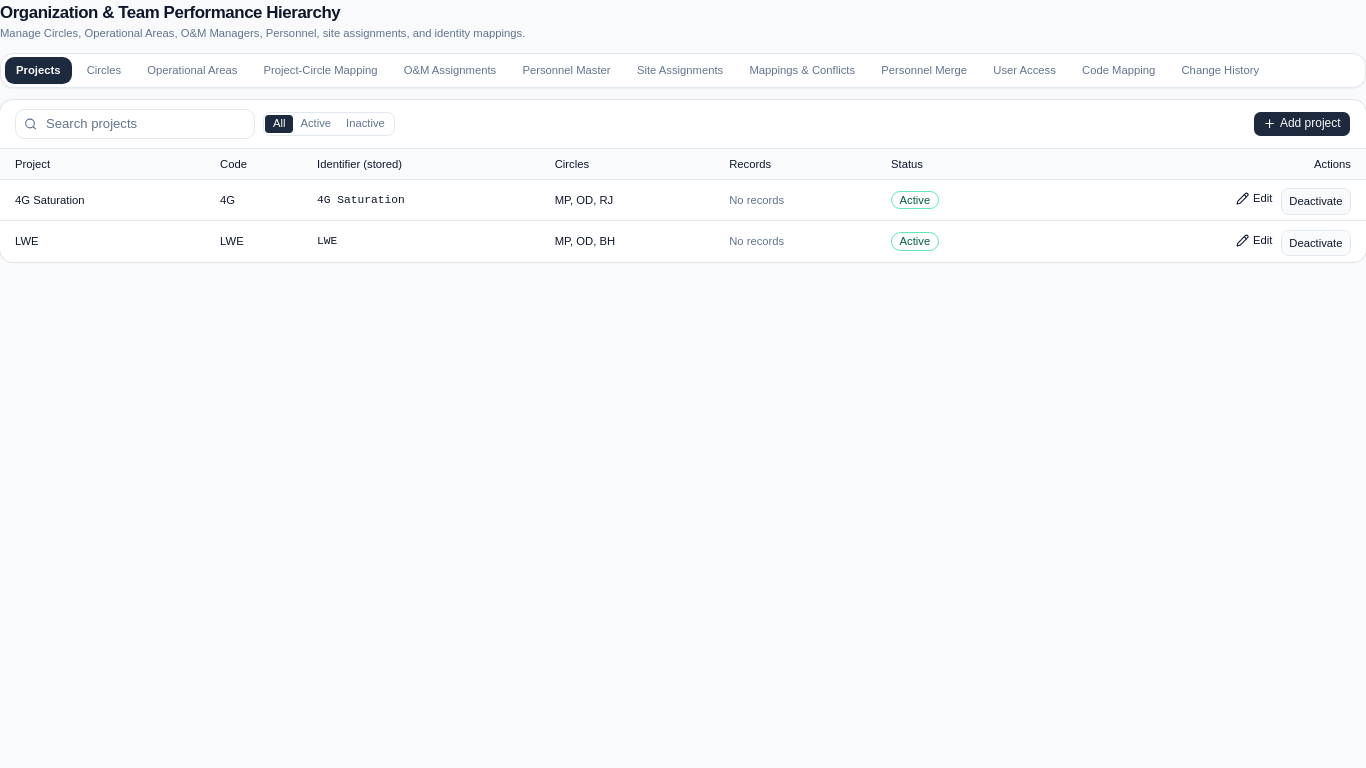
it: Organization page › deactivates a project only after confirmation, with the reason for the history
expect the text "MP, OD, BH" is shown: met, box [547,221,722,262]
Click the button with aria-label "Deactivate LWE".
click(1316, 243)  # box [1281,230,1351,256]
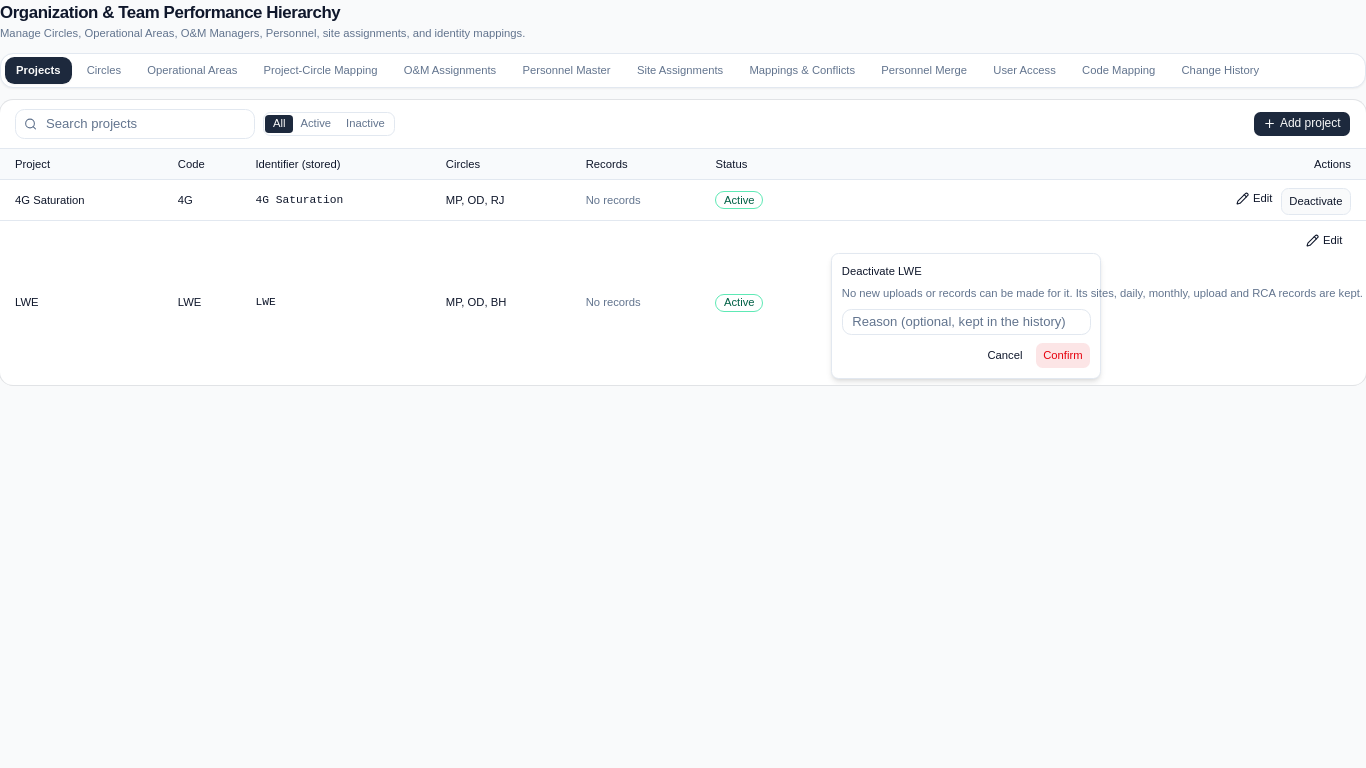
expect the dialog "Deactivate LWE" shows "records are kept": met, box [842,287,1363,299]
Type "Project closed" into the field named "Reason (optional)".
click(966, 322); type("Project closed")  # box [842,309,1091,335]
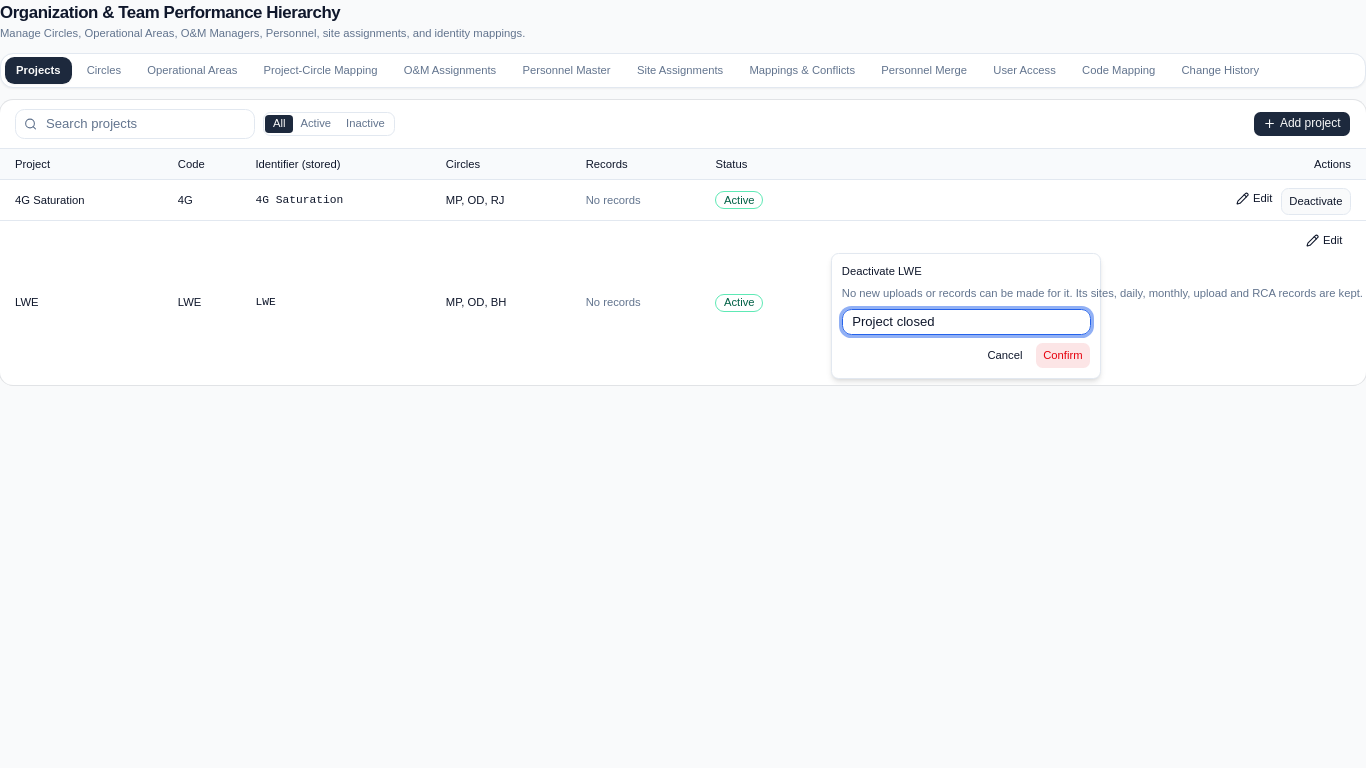
Click the button "Confirm".
click(1063, 355)  # box [1035,342,1091,369]
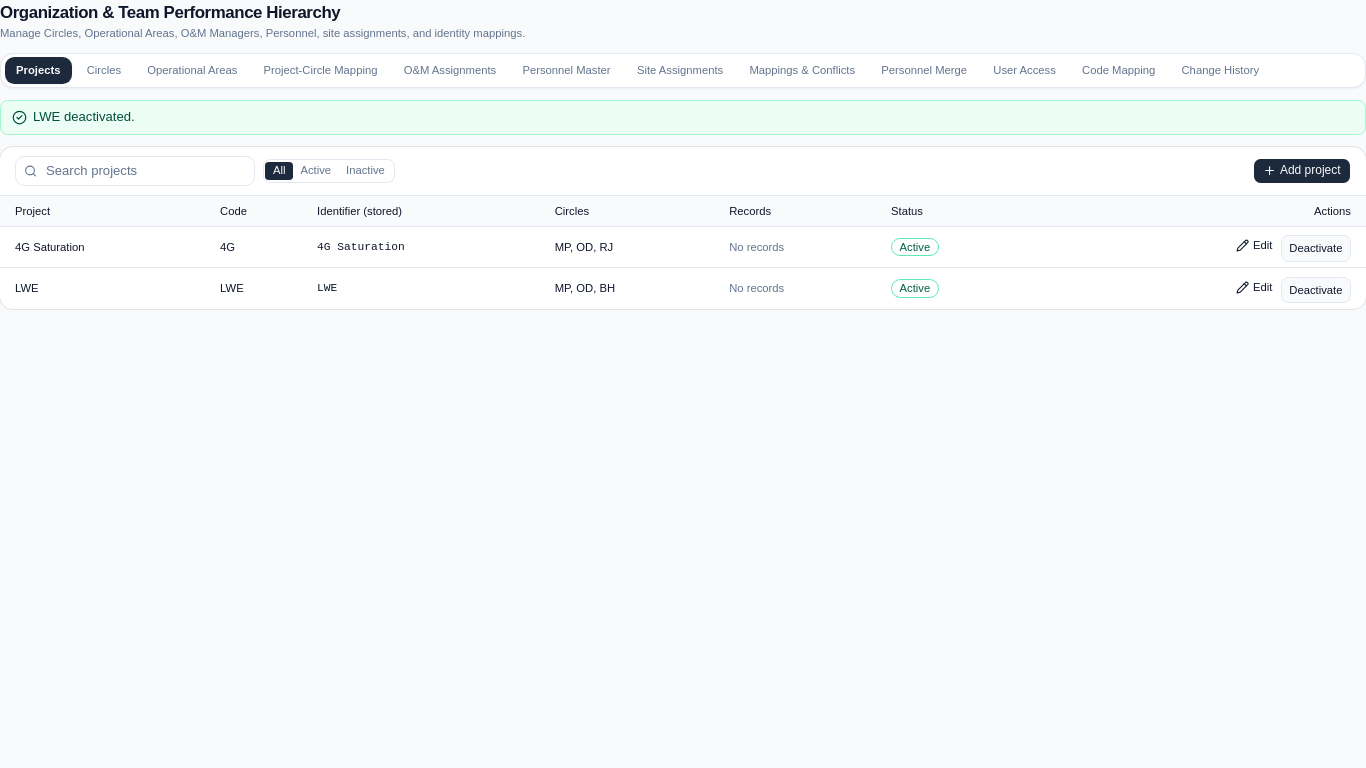
expect the message reads "LWE deactivated.": met, box [33,109,135,124]
